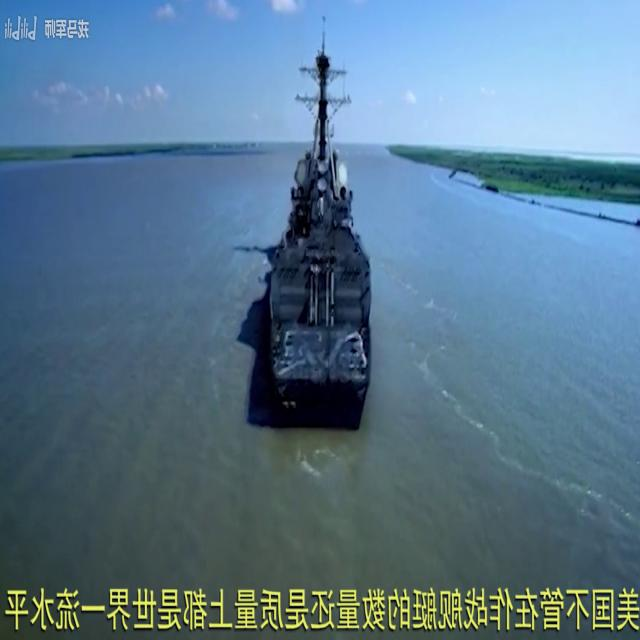navalvessels: (264, 16, 375, 408)
